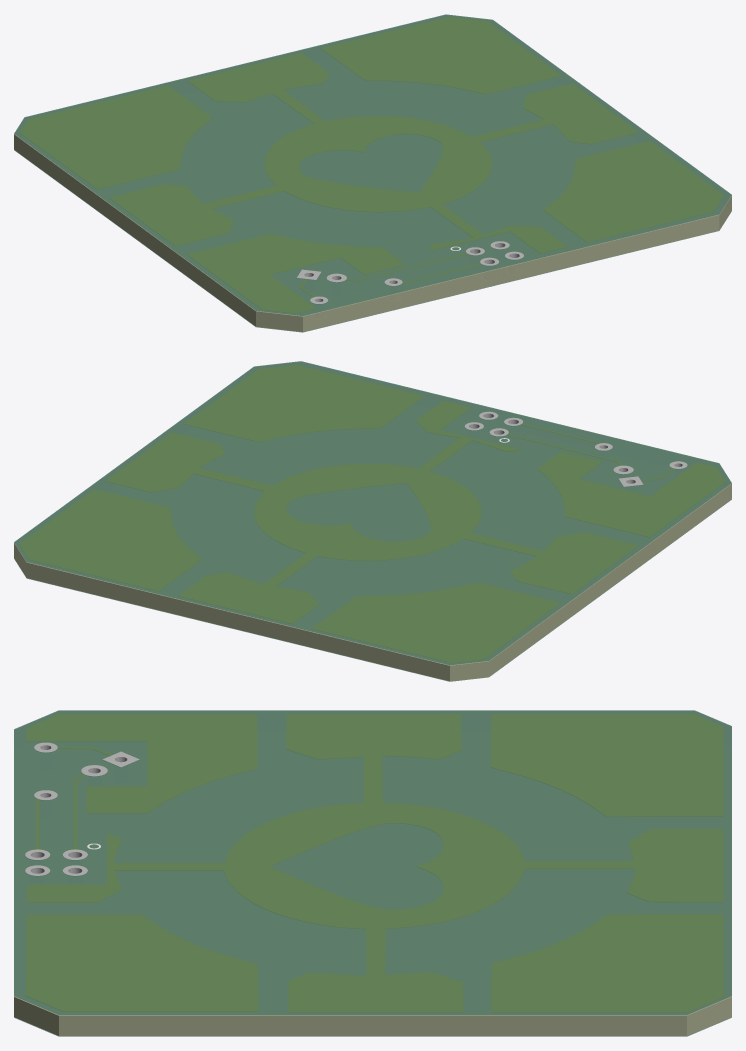
Rendered from badgelife-alexglow-saos-and-more.glb.
3 views of the same model, one above another, from view 1: azimuth 30°, elevation 25°; view 2: azimuth 150°, elevation 25°; view 3: azimuth 270°, elevation 25° (orthographic). The views are drawn at different scales.
Visible parts, largest first — view 1: =>[0:1:1:6], =>[0:1:1:2], =>[0:1:1:8]; view 2: =>[0:1:1:6], =>[0:1:1:2], =>[0:1:1:8]; view 3: =>[0:1:1:6], =>[0:1:1:2], =>[0:1:1:8].
Boxes of the visible parts, x1,y1,x2,y2 form: =>[0:1:1:6]: (14,14,731,332); =>[0:1:1:2]: (21,17,723,312); =>[0:1:1:8]: (14,15,731,331); =>[0:1:1:6]: (14,361,731,681); =>[0:1:1:2]: (19,365,725,662); =>[0:1:1:8]: (14,362,731,681); =>[0:1:1:6]: (14,710,731,1036); =>[0:1:1:2]: (25,714,722,1011); =>[0:1:1:8]: (14,711,731,1035).
Bounding box in the file's own units: 0.0488 × 0.00166 × 0.0485.
4 materials, 4 textured.
